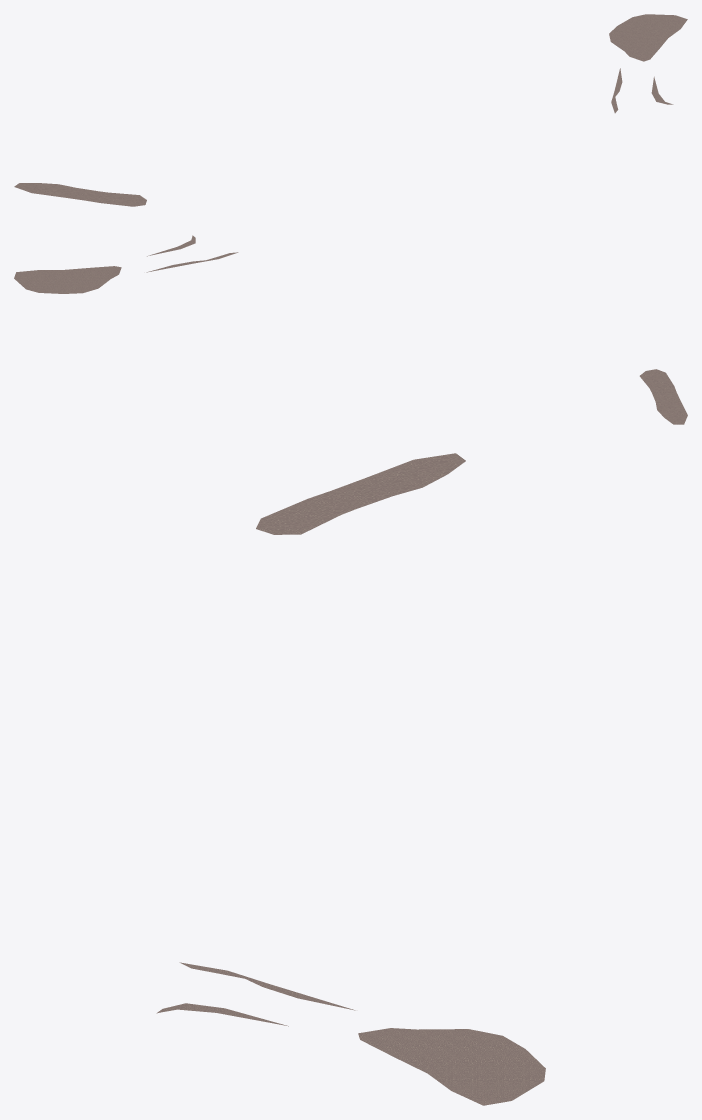
File: kd_stage_135fe0_5_24.glb
3 renders of one model, top to bottom at view 1: azimuth 30°, elevation 25°; view 2: azimuth 150°, elevation 25°; view 3: azimuth 270°, elevation 25°, orthographic. The views are drawn at different scales.
Visible parts, largest first — view 1: kd_stage_135fe0_5_24; view 2: kd_stage_135fe0_5_24; view 3: kd_stage_135fe0_5_24.
Part boxes in pixels (x1=…): kd_stage_135fe0_5_24: x1=14, y1=14, x2=687, y2=206; kd_stage_135fe0_5_24: x1=14, y1=235, x2=687, y2=424; kd_stage_135fe0_5_24: x1=156, y1=453, x2=545, y2=1105.
Size of the model in its own units: 13.02 by 0.07 by 3.32.
Materials: 1 (1 with a texture image).
